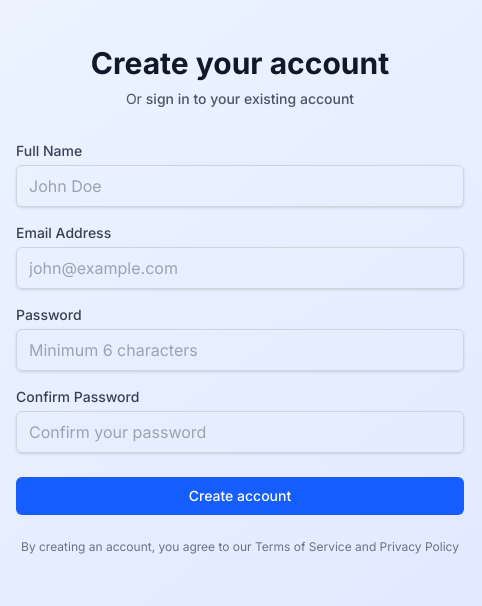
Test: Navigation Improvements › Form Validation and Error Handling › should handle short password validation
Note: Fill in form with short password
Type "Test User" into the field with placeholder "John Doe" at (240, 186), box top-left (16, 165), bottom-right (464, 207)
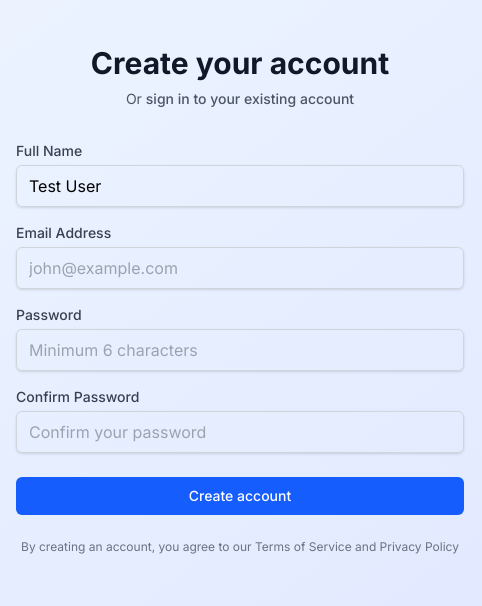
Type "test@example.com" into the field with placeholder "john@example.com" at (240, 268), box top-left (16, 247), bottom-right (464, 289)
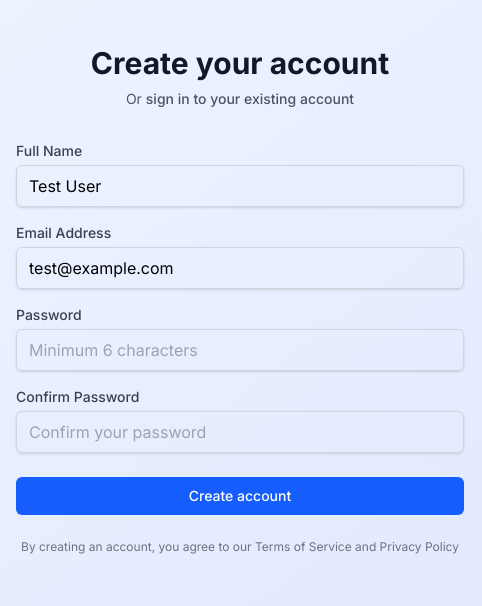
Type "12345" into the password field with placeholder "Minimum 6 characters" at (240, 350), box top-left (16, 329), bottom-right (464, 371)
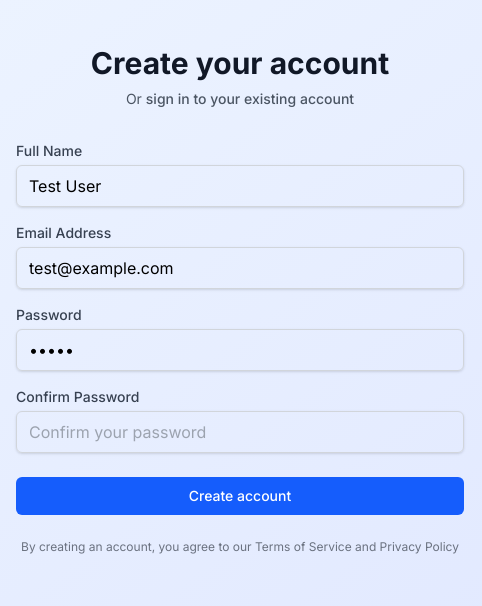
Type "12345" into the password field with placeholder "Confirm your password" at (240, 432), box top-left (16, 411), bottom-right (464, 453)
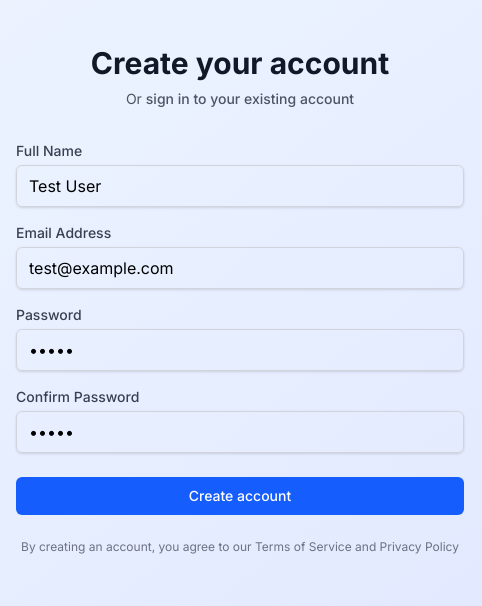
Note: Submit form
Click the button "Create account" at (240, 496), box top-left (16, 477), bottom-right (464, 515)
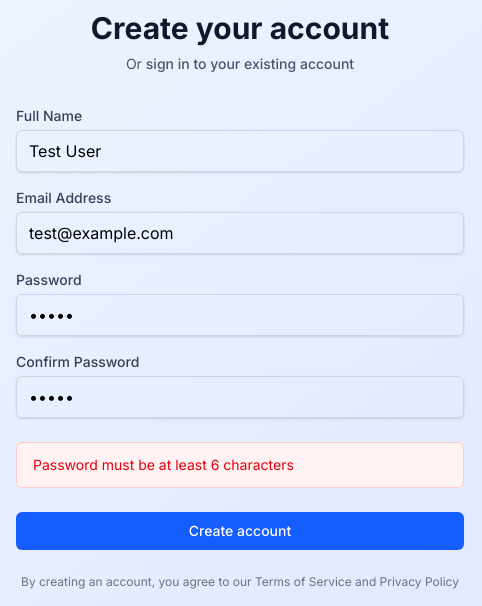
expect the text "Password must be at least 6 characters" is shown: met, box top-left (16, 442), bottom-right (464, 488)
